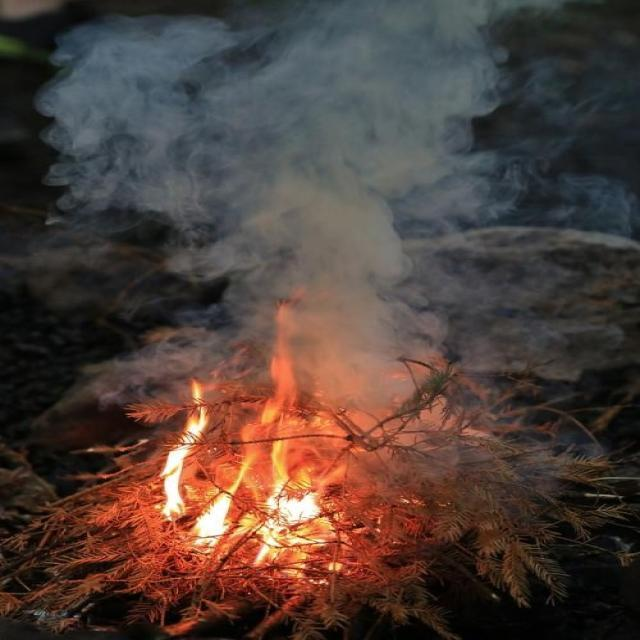Fire: (157, 299, 352, 586)
Smoke: (36, 1, 635, 497)
